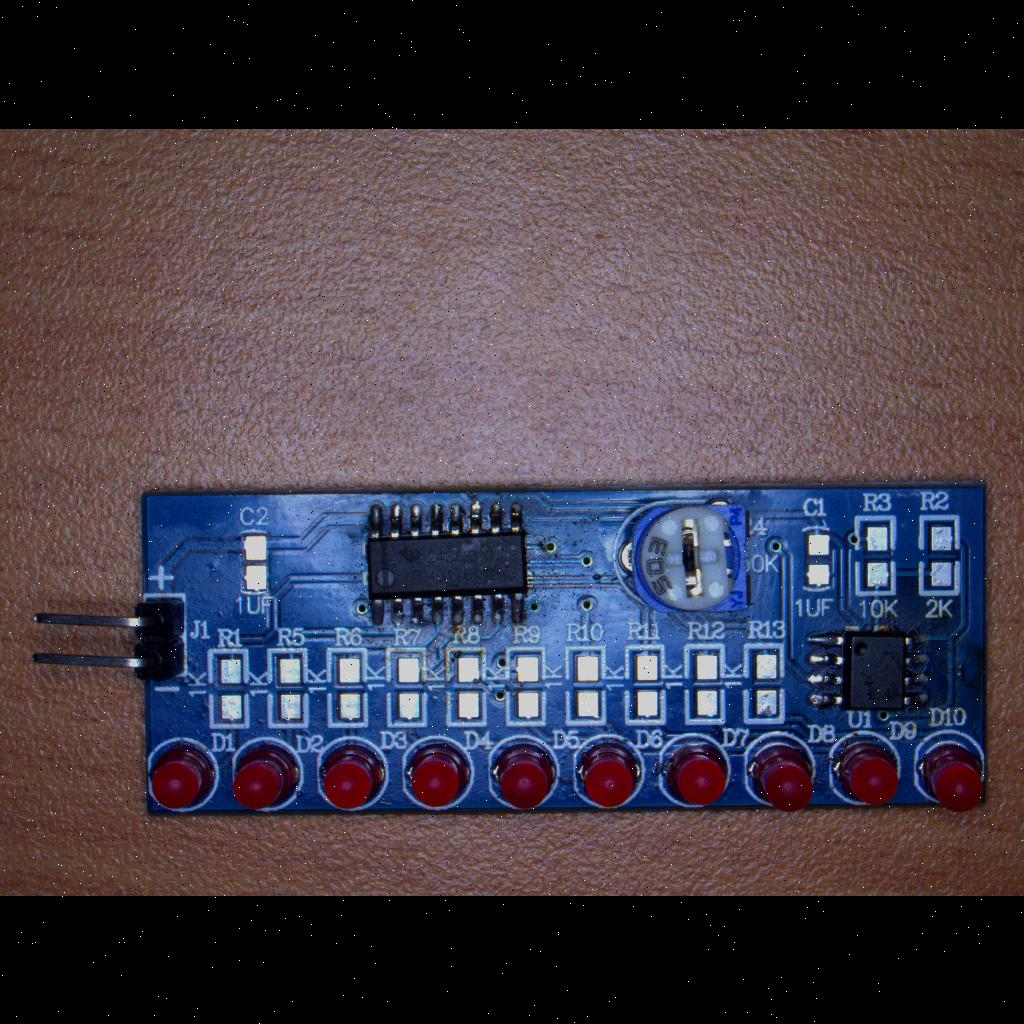NG: (260, 642, 314, 732), (678, 638, 730, 730), (204, 643, 254, 733), (382, 642, 430, 730), (738, 640, 786, 728), (443, 642, 489, 732), (563, 642, 609, 730), (620, 642, 668, 726), (326, 645, 372, 729), (505, 642, 549, 728), (230, 526, 278, 602), (794, 520, 838, 596)
OK: (362, 495, 536, 631), (805, 629, 943, 717)
